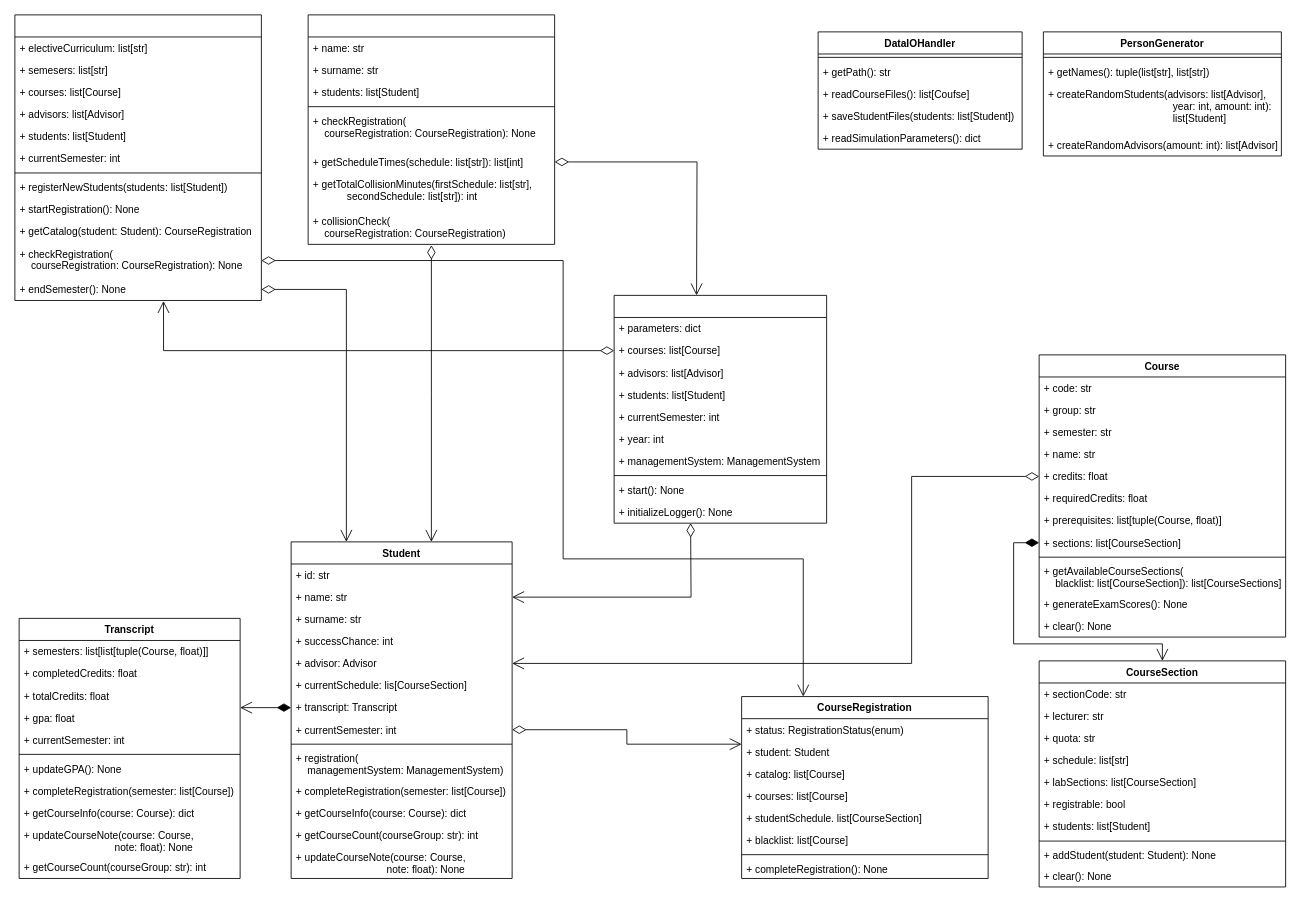
Image size: 1301x904. Some labels were removed from this diagram. The box of each missing label's shape, as (x1, y1, x2, y2) in pixels:
Advisor: (307, 14, 555, 244)
ManagementSystem: (14, 14, 261, 300)
Simulation: (613, 295, 827, 523)
